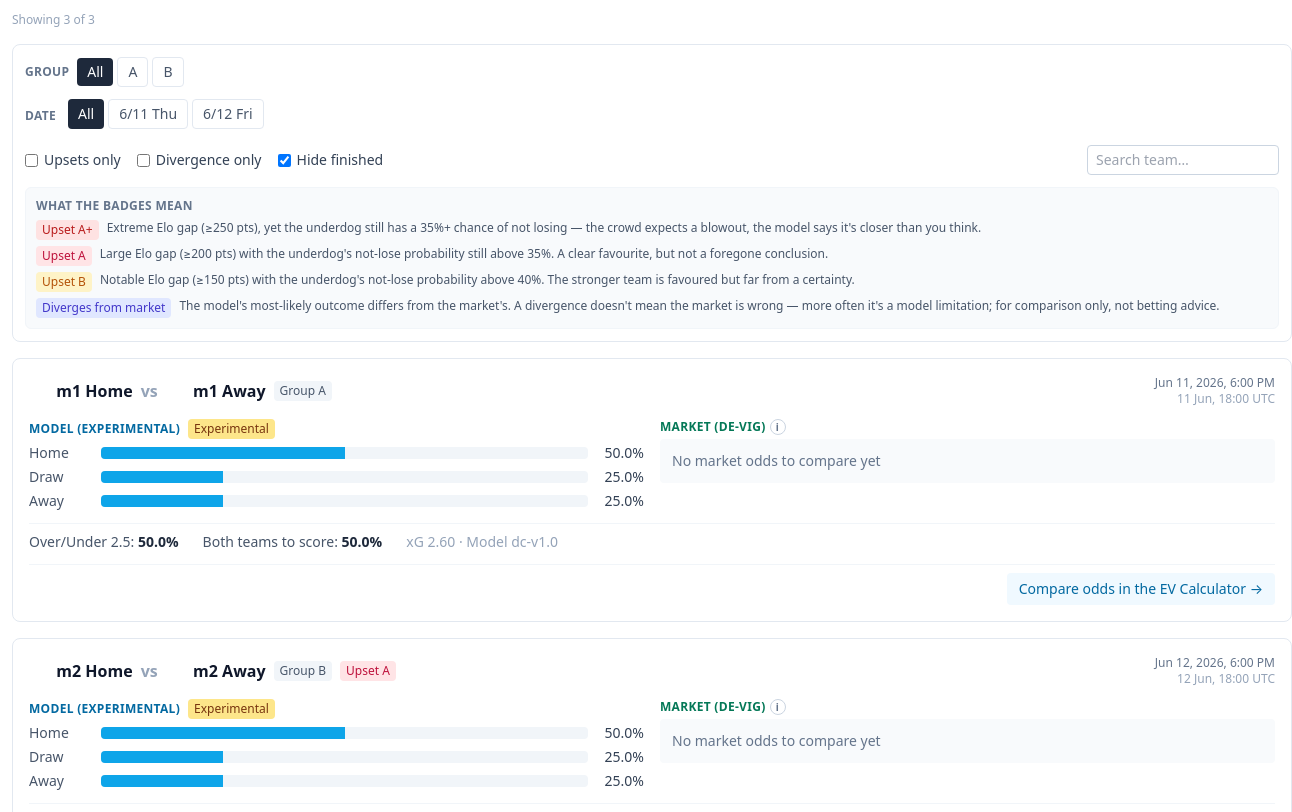
Test: MatchFilters (client-side filter, Issue 7) › filters by group
Step 1. Click the button "B" → (168,72), box [152,57,184,87]
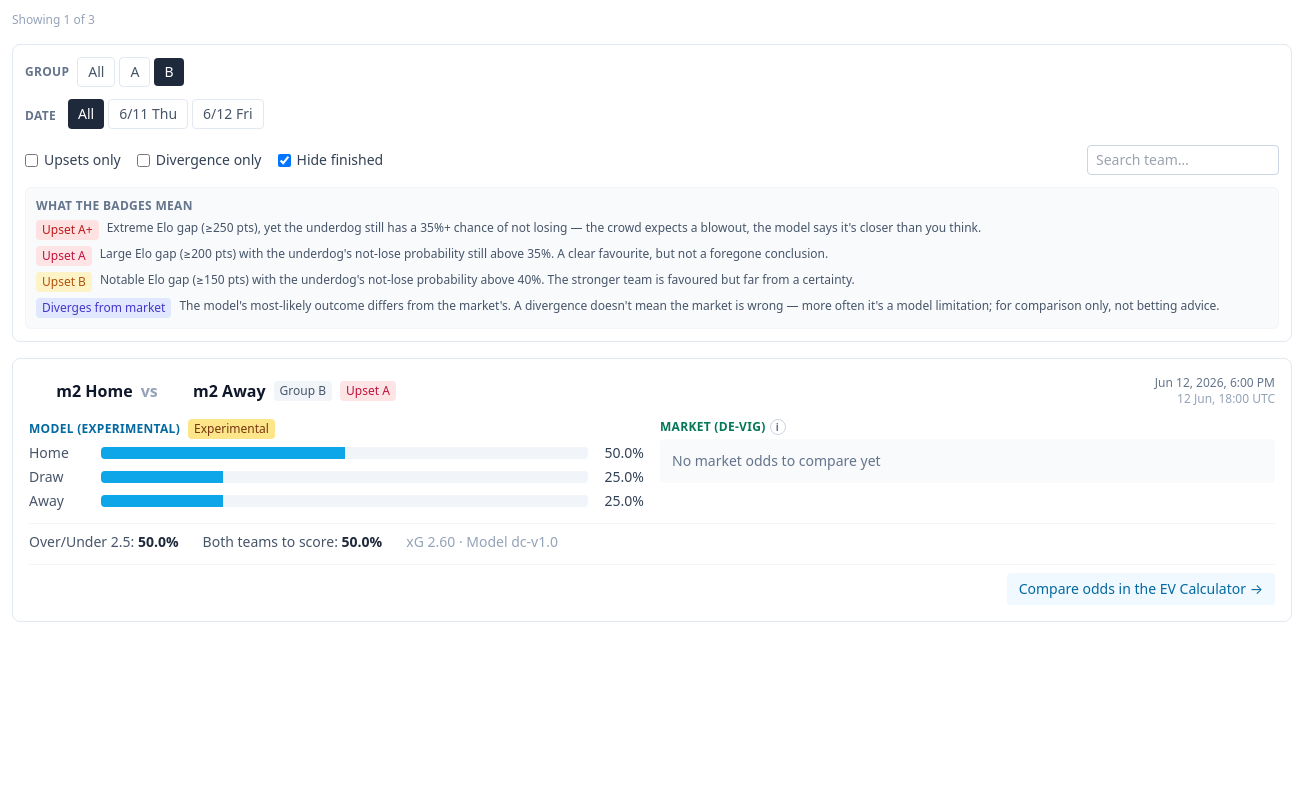
Expected: the text "Group B" is shown, [274,381,332,401]
Now the text "Showing 1 of 3" is shown, box [12,12,95,28]
